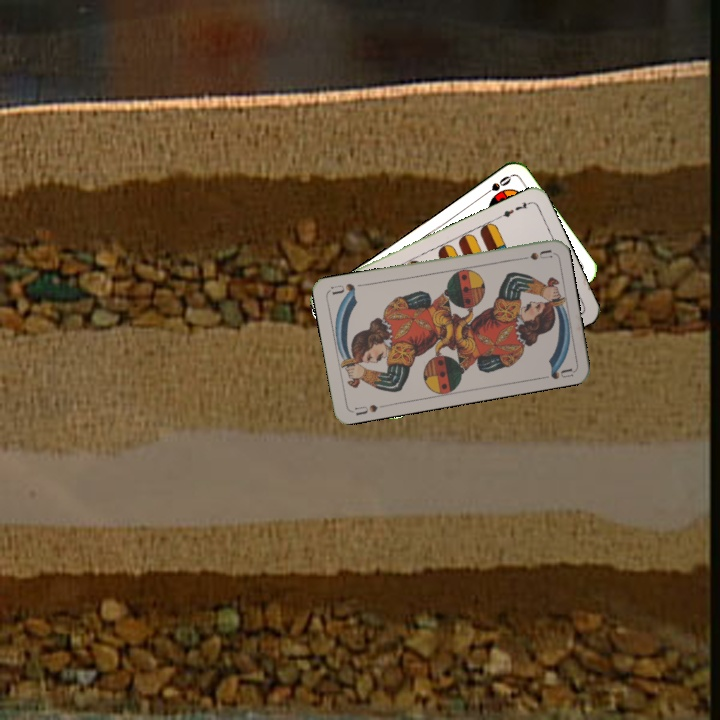E7: (495, 198, 533, 221)
SO: (478, 172, 514, 199)
SU: (513, 245, 554, 263), (348, 400, 389, 418)
